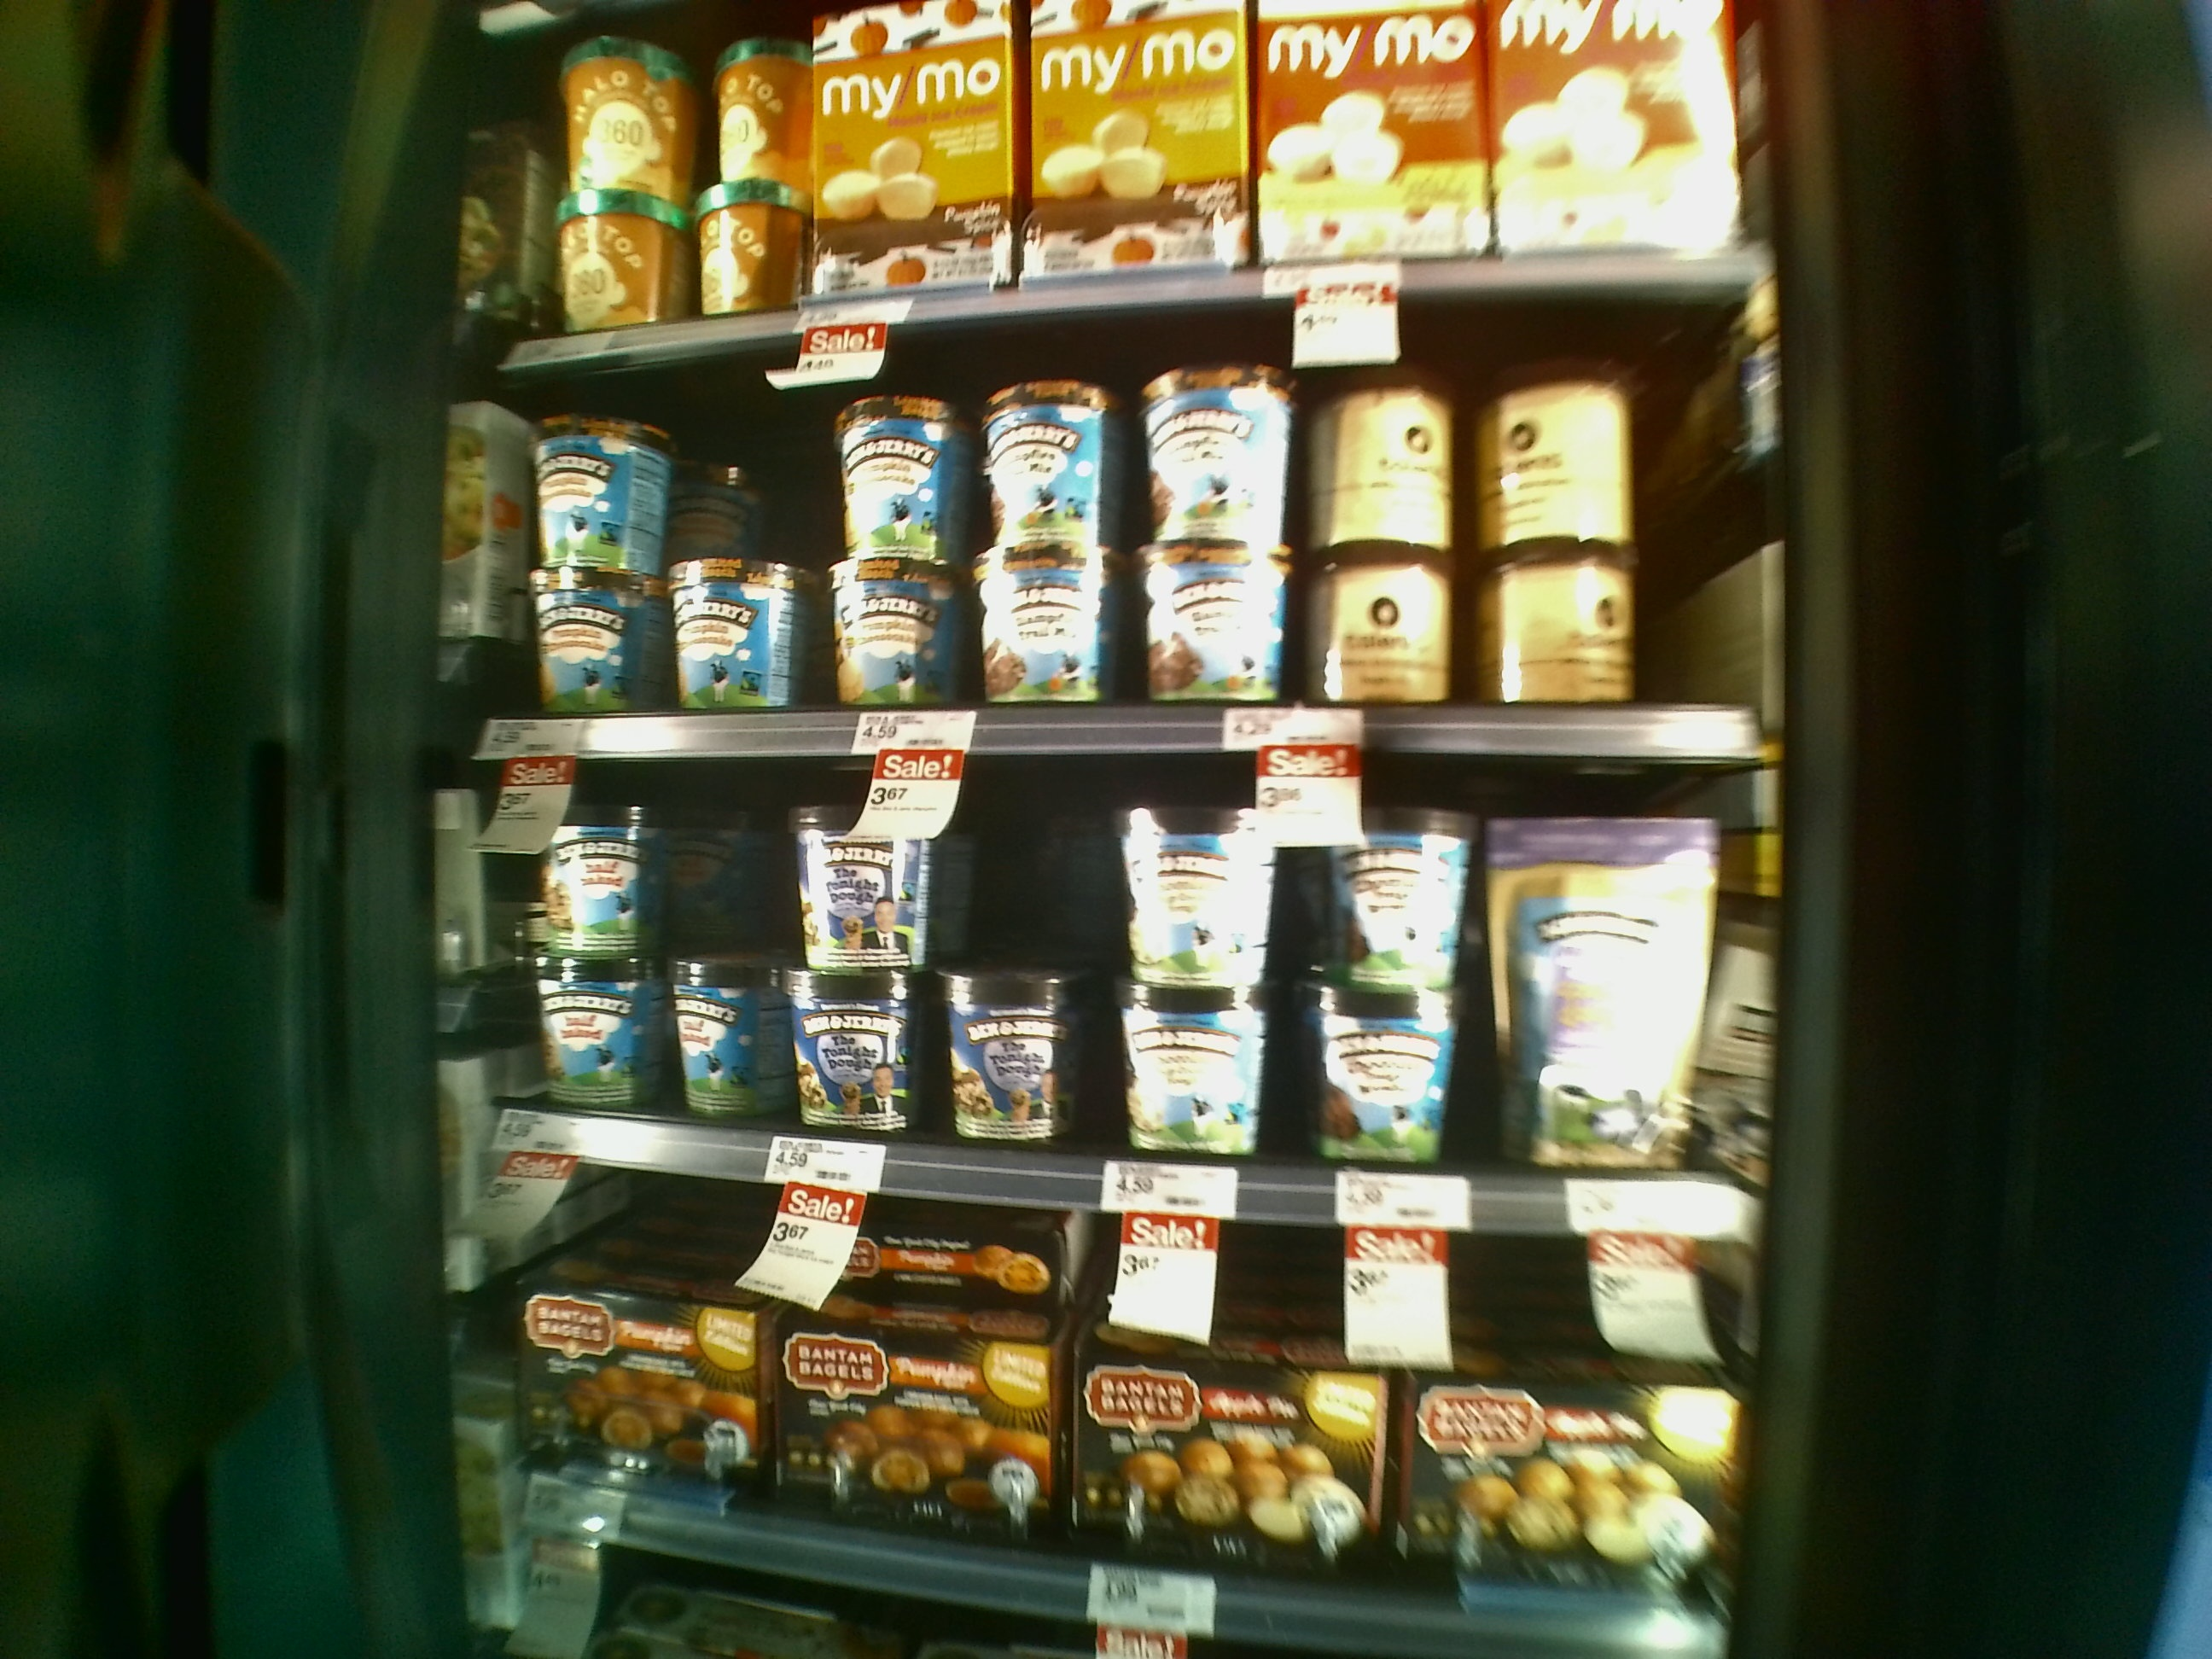shelf: (446, 1169, 1773, 1659), (472, 760, 1775, 1236), (474, 352, 1778, 758)
